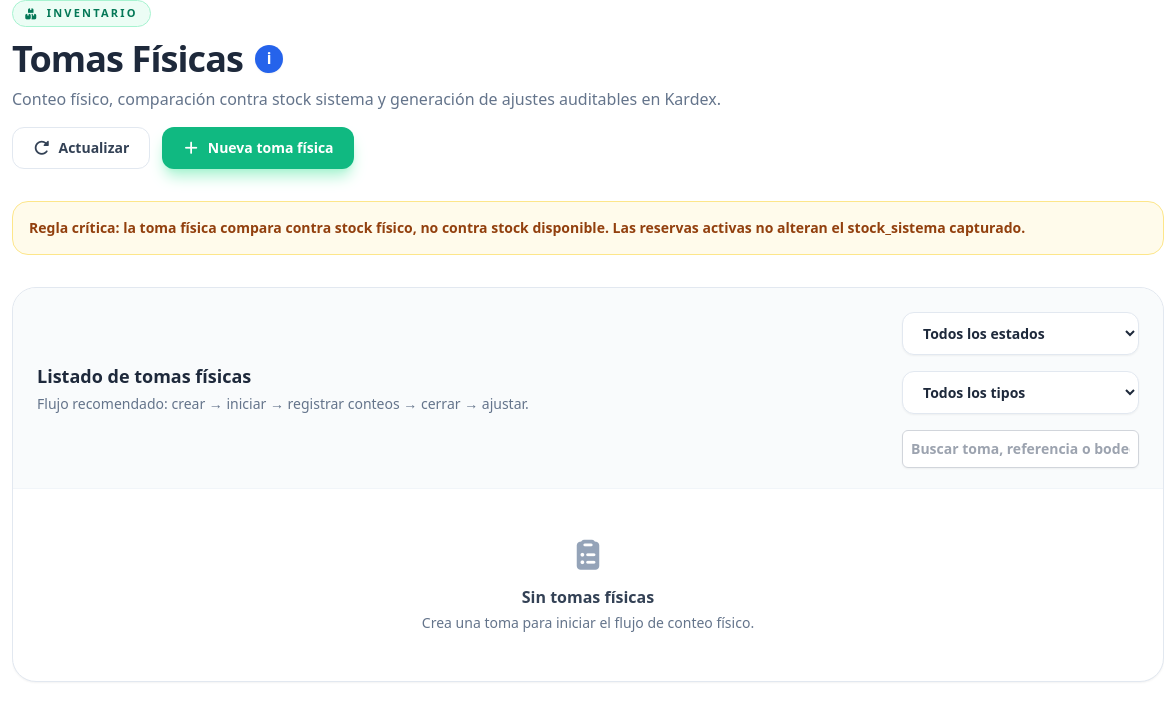
Scenario: TomasFisicasInventario (vista) › cierra el formulario al hacer clic en "Cerrar formulario"
Click the button "Nueva toma física" at point(258, 148), box [162,127,354,169]
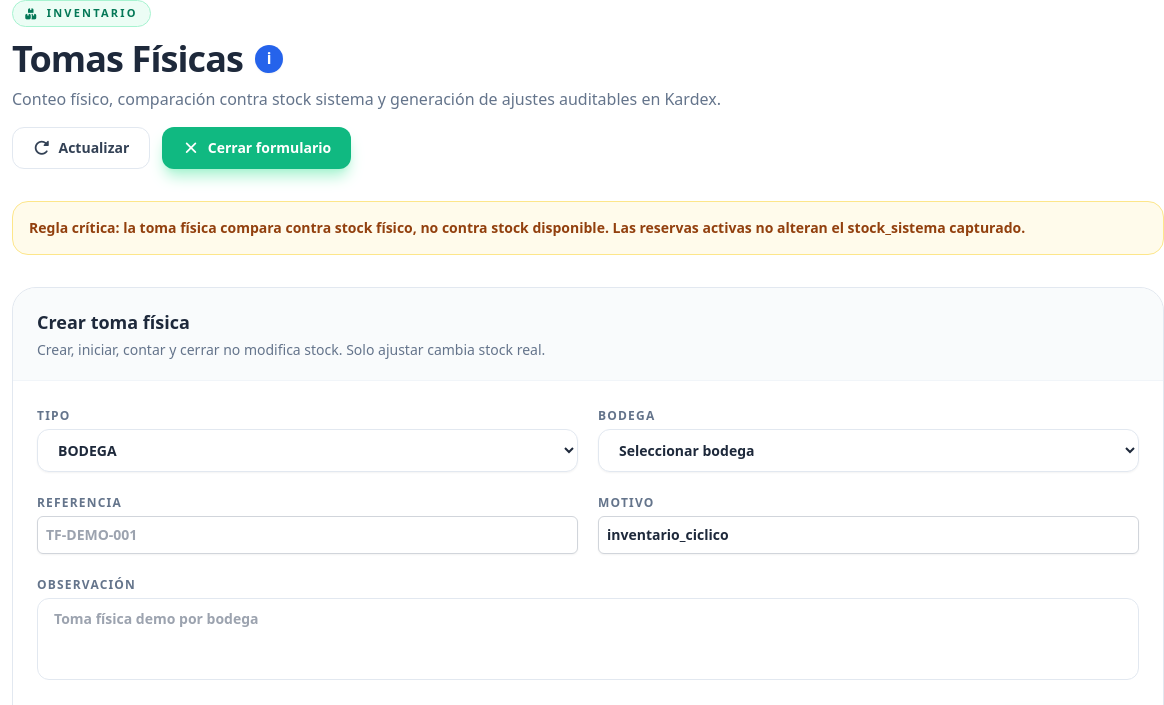
expect the button "Cerrar formulario" is shown: met
Click the button "Cerrar formulario" at point(257, 148), box [162,127,351,169]
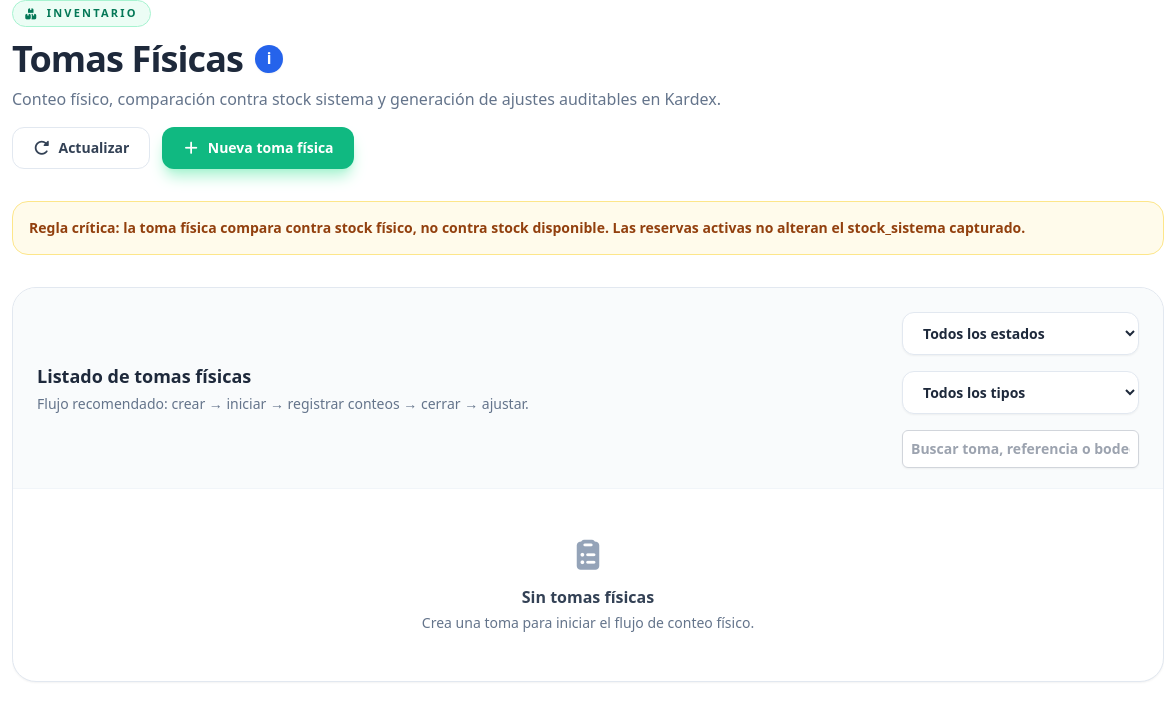
expect the heading "Crear toma física" is gone: met
